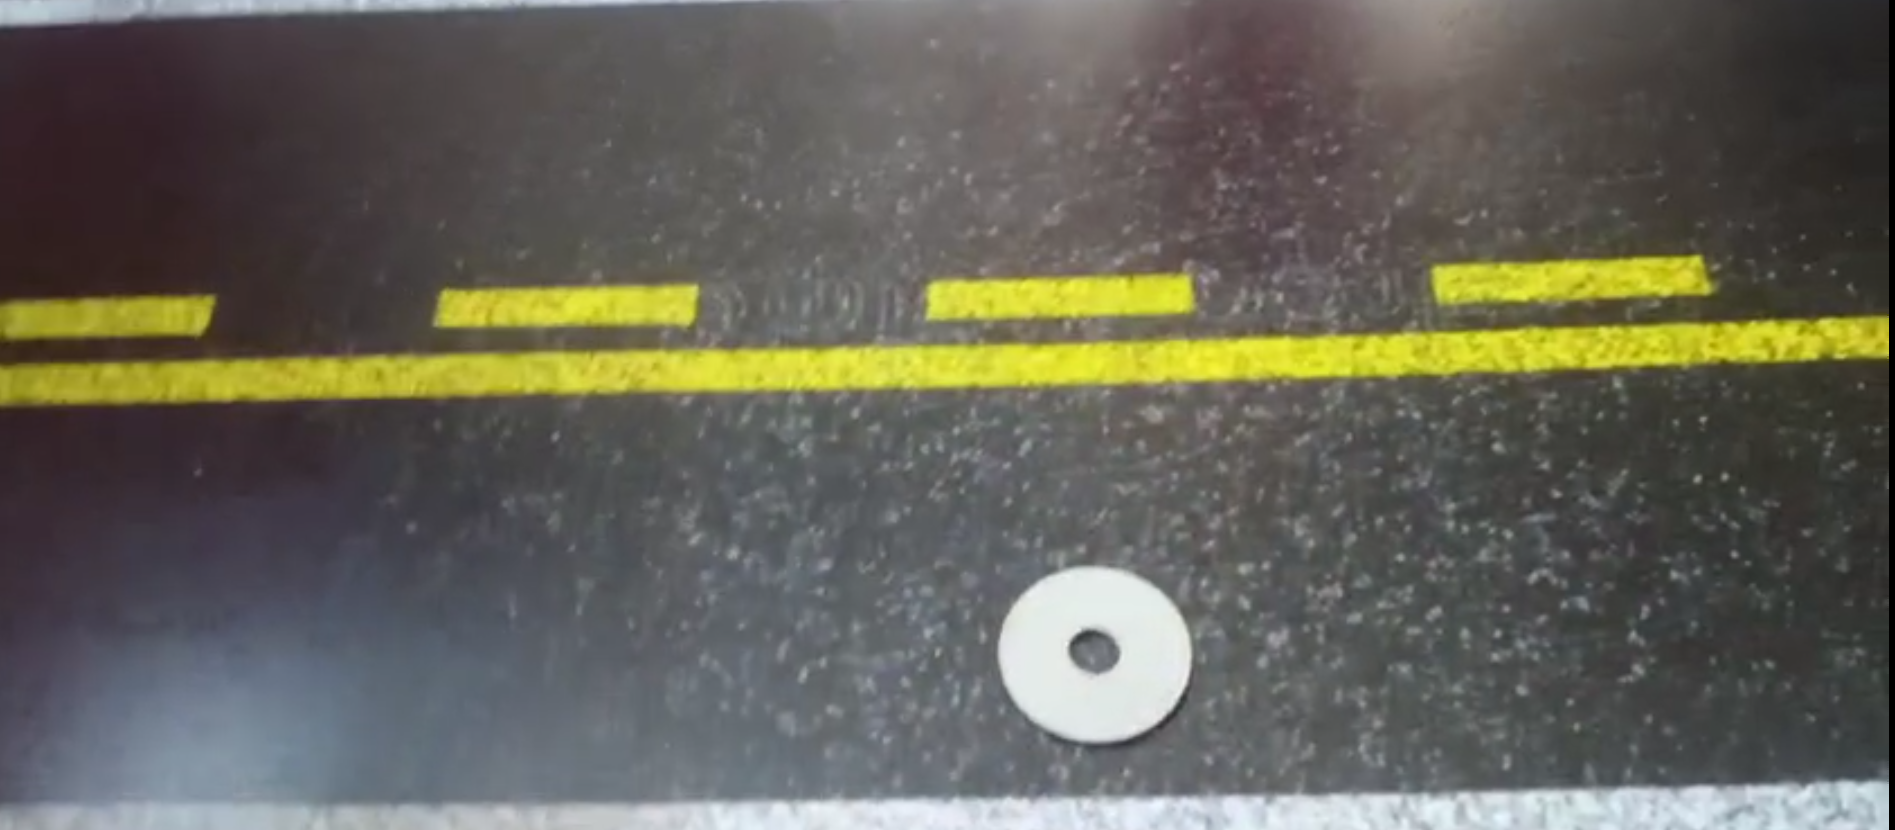metal: (993, 553, 1196, 754)
